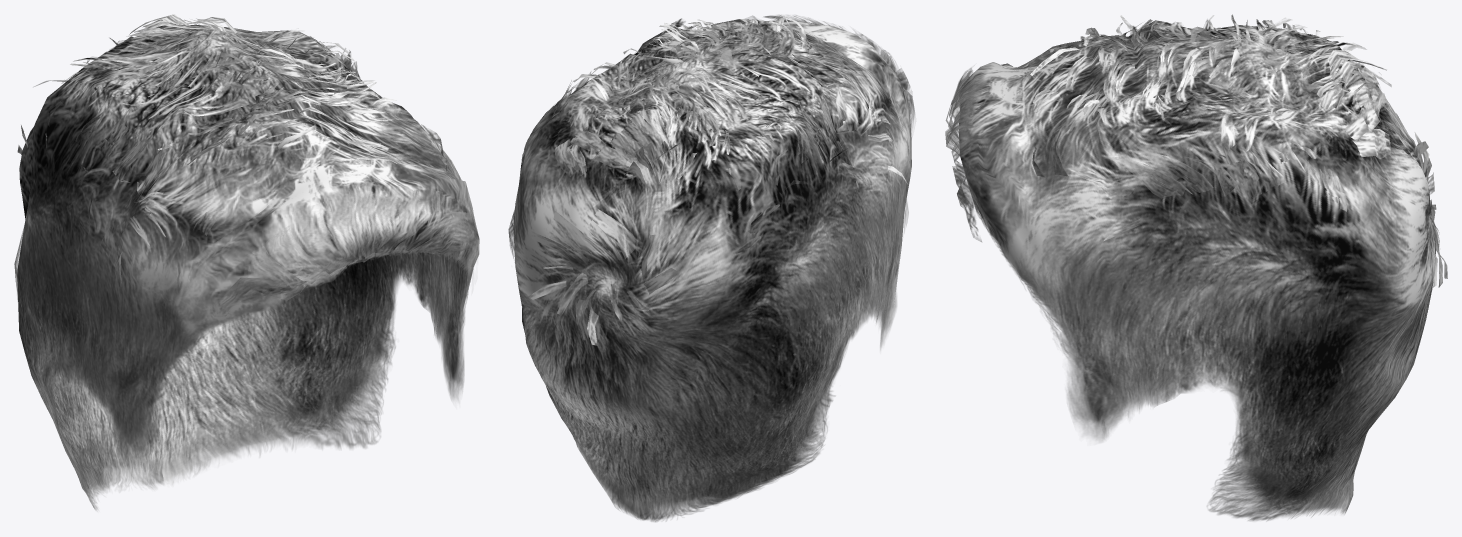
Rendered from hair_short01.gltf.
3 views of the same model, side by side, from view 1: azimuth 30°, elevation 25°; view 2: azimuth 150°, elevation 25°; view 3: azimuth 270°, elevation 25° (orthographic). The views are drawn at different scales.
Parts seen in each view (by area): view 1: hair_short01; view 2: hair_short01; view 3: hair_short01.
Boxes of the visible parts, x1,y1,x2,y2 form: hair_short01: [14, 14, 479, 511]; hair_short01: [508, 14, 915, 522]; hair_short01: [945, 14, 1447, 520].
Bounding box in the file's own units: 0.1531 × 0.2034 × 0.1951.
1 material, 1 textured.
